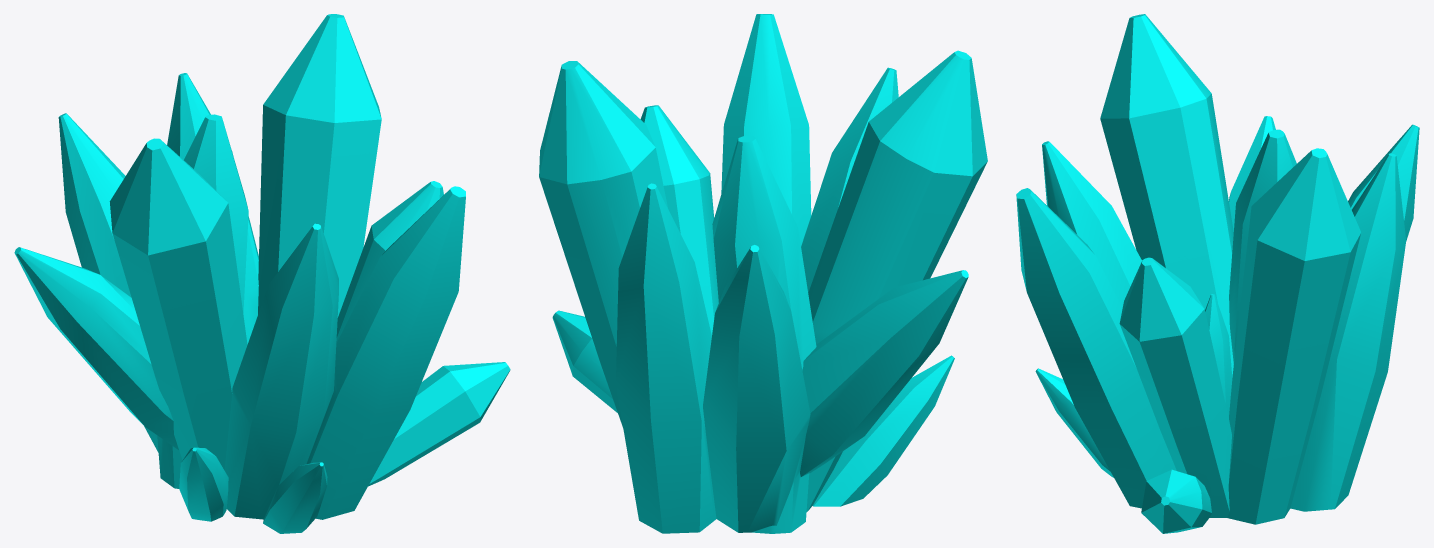
The model's file is cristallo.fbx.
3 views of the same model, side by side, from view 1: azimuth 30°, elevation 25°; view 2: azimuth 150°, elevation 25°; view 3: azimuth 270°, elevation 25° (orthographic). The views are drawn at different scales.
Parts seen in each view (by area): view 1: Crystal_Light_Blue_01; view 2: Crystal_Light_Blue_01; view 3: Crystal_Light_Blue_01.
Part boxes in pixels (box(x1,y1,x2,y2)): Crystal_Light_Blue_01: box(14, 14, 510, 533); Crystal_Light_Blue_01: box(539, 14, 987, 533); Crystal_Light_Blue_01: box(1016, 14, 1419, 533).
Size of the model in its own units: 108 by 96.71 by 88.27.
